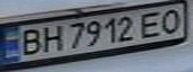1: (100, 16, 121, 44)
2: (115, 12, 142, 43)
7: (63, 20, 87, 50)
9: (81, 17, 106, 48)
B: (12, 26, 45, 56)
E: (136, 8, 169, 38)
H: (36, 24, 66, 53)
O: (154, 7, 187, 35)
